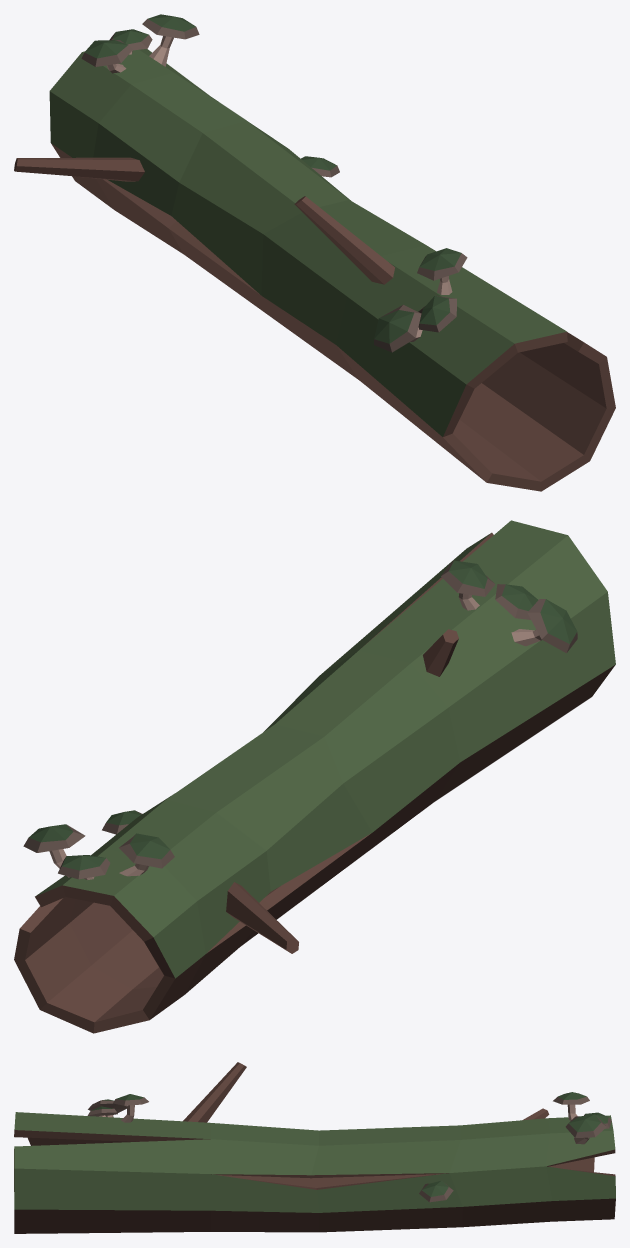
The model's file is WoodLog_Moss.glb.
3 renders of one model, top to bottom at view 1: azimuth 30°, elevation 25°; view 2: azimuth 150°, elevation 25°; view 3: azimuth 270°, elevation 25°, orthographic. The views are drawn at different scales.
Visible parts, largest first — view 1: WoodLog_Moss_Cylinder.011; view 2: WoodLog_Moss_Cylinder.011; view 3: WoodLog_Moss_Cylinder.011.
Boxes of the visible parts, bbox=[...] form: WoodLog_Moss_Cylinder.011: bbox=[14, 14, 615, 491]; WoodLog_Moss_Cylinder.011: bbox=[14, 520, 615, 1033]; WoodLog_Moss_Cylinder.011: bbox=[14, 1062, 615, 1233].
Size of the model in its own units: 0.8965 by 0.6882 by 2.67.
Materials: 1 (1 with a texture image).
